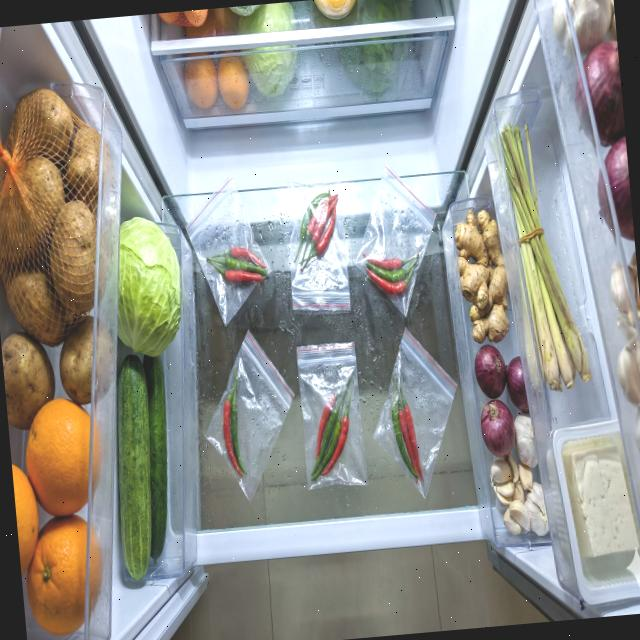cabbage: (107, 212, 188, 360), (237, 2, 303, 100)
chili: (302, 379, 362, 482), (287, 188, 344, 272), (388, 371, 423, 485), (217, 367, 247, 478), (361, 248, 422, 299), (205, 244, 268, 286)
cucumber: (105, 350, 182, 581)
garlic: (484, 410, 550, 540), (608, 256, 640, 330), (614, 337, 640, 407)
ginger: (452, 206, 514, 346)
lemongrass: (498, 117, 594, 396)
onion: (472, 340, 532, 460)
orange: (6, 395, 116, 640), (182, 54, 252, 114)
potato: (0, 80, 137, 431)
tofu: (561, 442, 640, 558)
